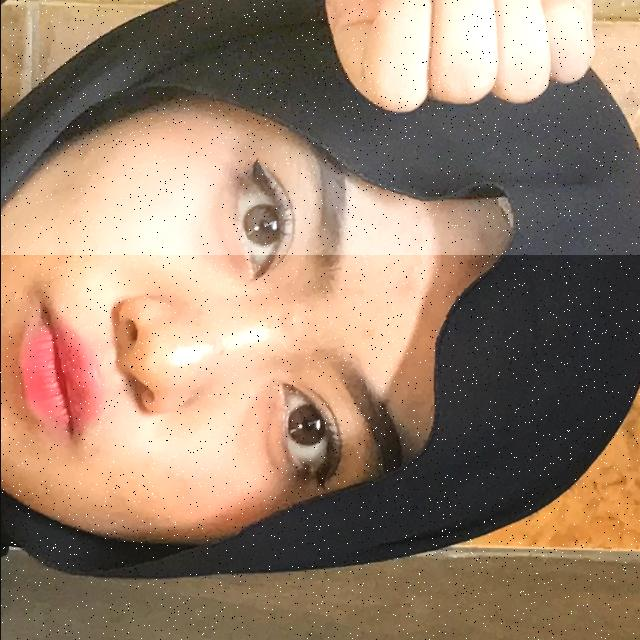sedih: (0, 0, 640, 255)
